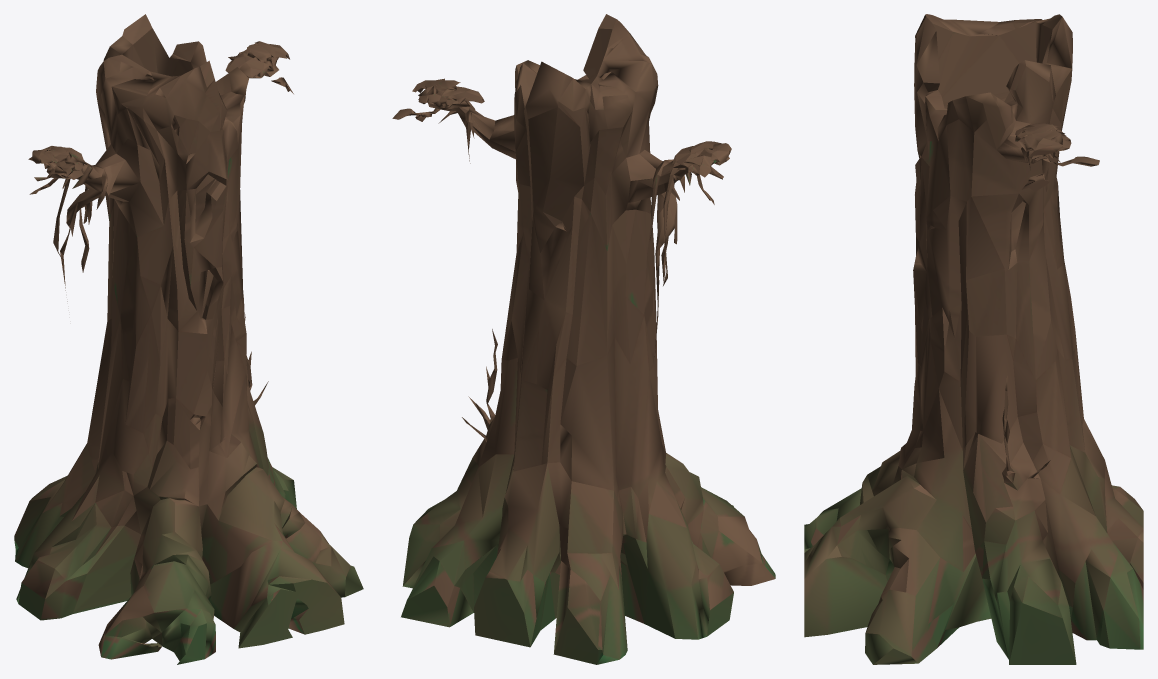
File: cover_full_jungle_v3.glb
The picture shows the model from 3 angles, left to right: view 1: azimuth 30°, elevation 25°; view 2: azimuth 150°, elevation 25°; view 3: azimuth 270°, elevation 25°; orthographic projection. The views are drawn at different scales.
Visible parts, largest first — view 1: output_unwrapped; view 2: output_unwrapped; view 3: output_unwrapped.
Boxes of the visible parts, <box> form: output_unwrapped: <box>14,14,363,664</box>; output_unwrapped: <box>392,14,775,664</box>; output_unwrapped: <box>804,14,1143,664</box>.
Size of the model in its own units: 0.98 by 1.85 by 0.98.
Materials: 1 (1 with a texture image).
